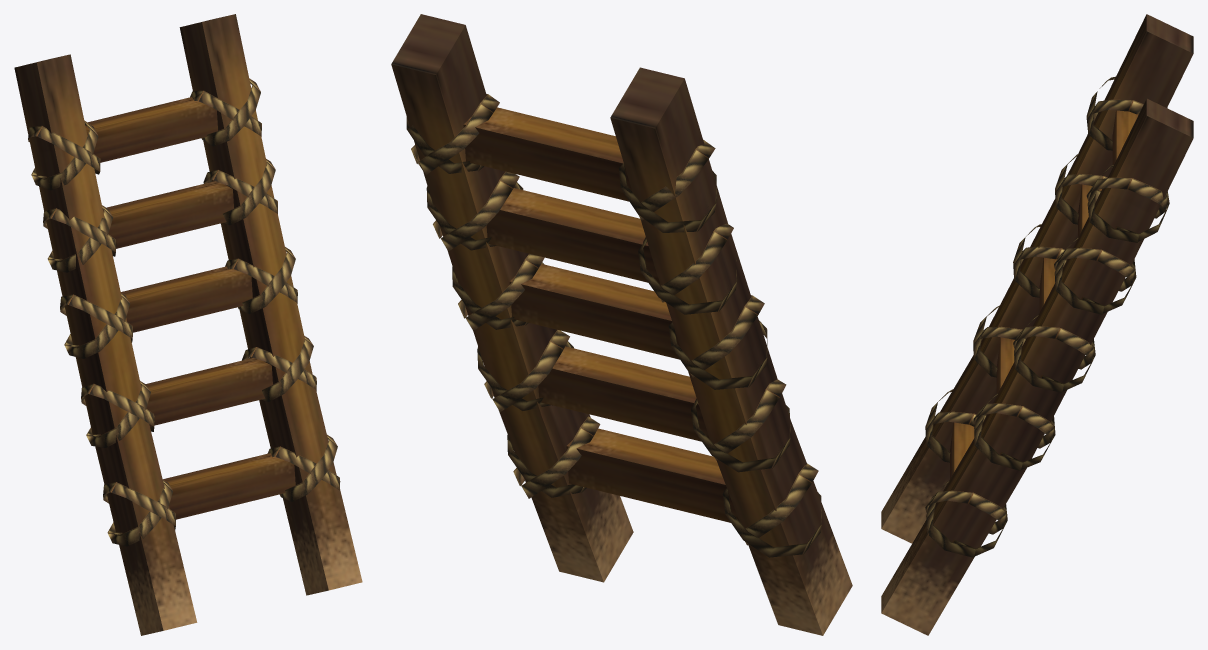
The model's file is futi02.FBX.
3 views of the same model, side by side, from view 1: azimuth 30°, elevation 25°; view 2: azimuth 150°, elevation 25°; view 3: azimuth 270°, elevation 25° (orthographic). The views are drawn at different scales.
Visible parts, largest first — view 1: futi02; view 2: futi02; view 3: futi02.
Boxes of the visible parts, x1,y1,x2,y2 form: futi02: (14,14,362,635); futi02: (391,14,852,635); futi02: (881,14,1193,635).
Bounding box in the file's own units: 59.4 × 126 × 68.74.
